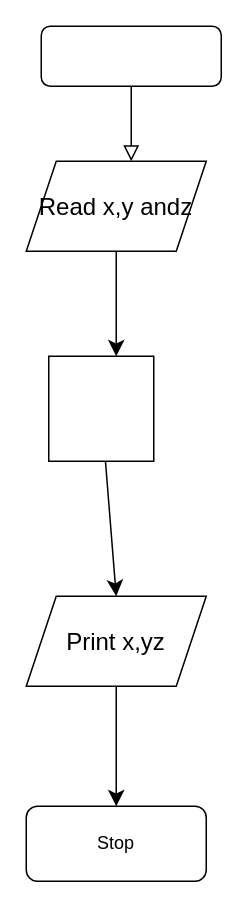
Some shapes in this 248 by 908 pixel diagram are drawn without their labels. Here are the shapes that lost their labels. From the top down, the box of each, then its label:
(40, 25, 221, 86): Start
(47, 355, 154, 461): Sort x,y,z
